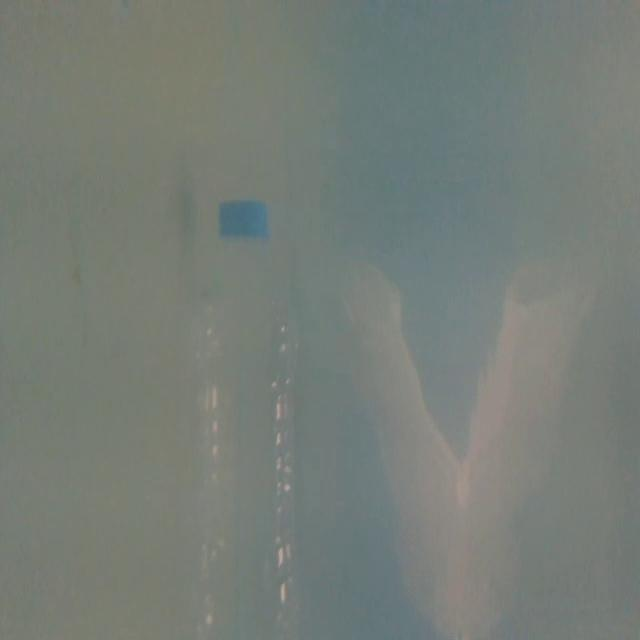plastic bags: (356, 254, 578, 640)
plastic bottle: (201, 194, 307, 640)
